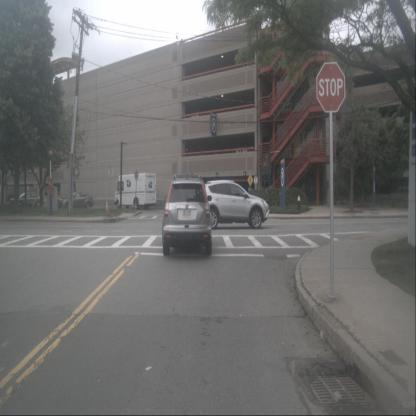movable_object-trafficcone: (104, 200, 108, 214)
vehicle-car: (162, 174, 212, 256), (202, 180, 269, 229), (9, 190, 44, 209), (60, 192, 94, 210)
vehicle-truck: (114, 173, 157, 210)
